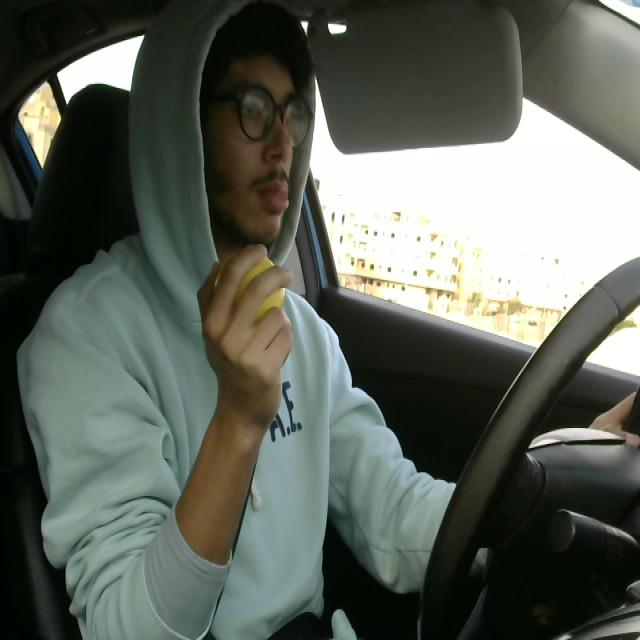eating: (212, 242, 288, 337)
